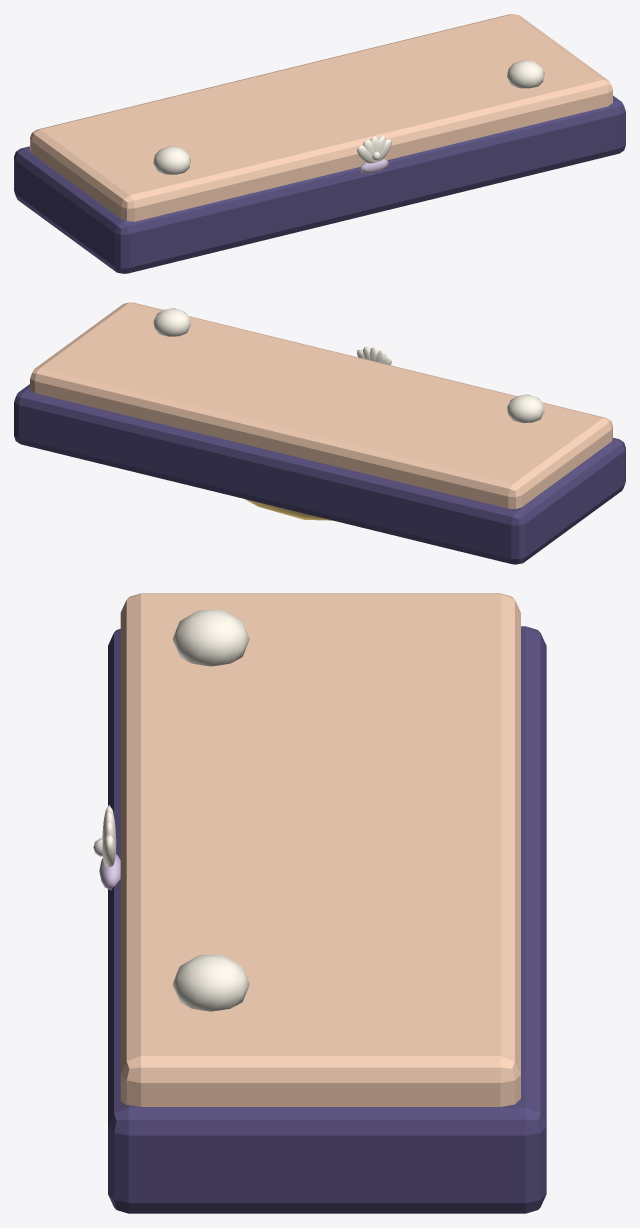
The model's file is pearl_music_bar_1.glb.
The picture shows the model from 3 angles, top to bottom: view 1: azimuth 30°, elevation 25°; view 2: azimuth 150°, elevation 25°; view 3: azimuth 270°, elevation 25°; orthographic projection. The views are drawn at different scales.
Visible parts, largest first — view 1: pearl_music_bar_1.001; view 2: pearl_music_bar_1.001; view 3: pearl_music_bar_1.001.
Boxes of the visible parts, x1=… form: pearl_music_bar_1.001: x1=14, y1=14, x2=625, y2=273; pearl_music_bar_1.001: x1=14, y1=302, x2=625, y2=564; pearl_music_bar_1.001: x1=93, y1=593, x2=546, y2=1213.
Size of the model in its own units: 7.31 by 1.7 by 2.81.
